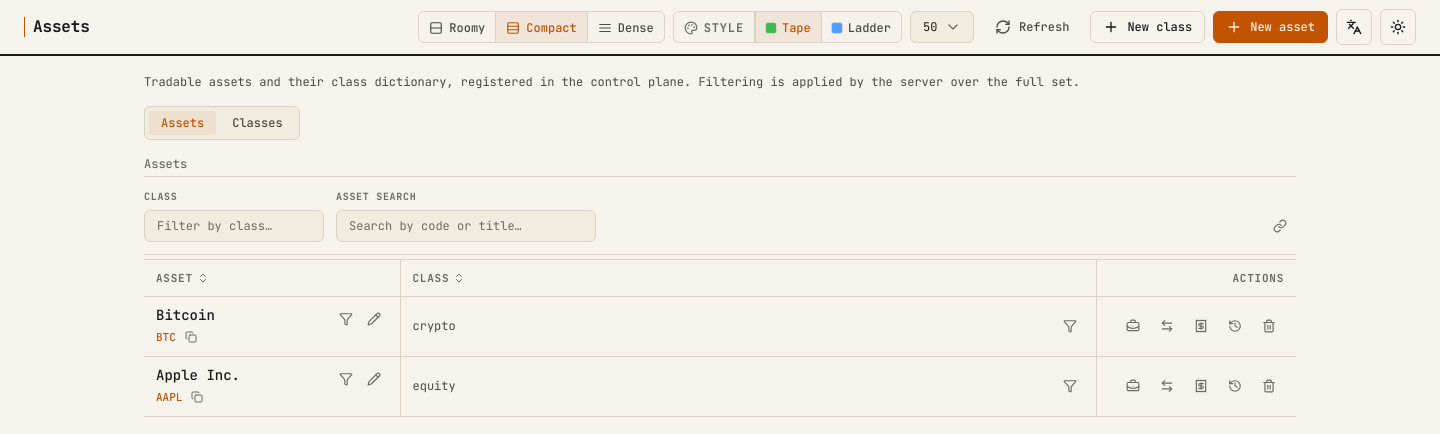
Test: Assets classes tab › switches to the Classes tab and lists asset classes
The width and height of the screenshot is (1440, 434).
Click the button "Classes" at (257, 123), box x1=220 y1=111 x2=295 y2=135
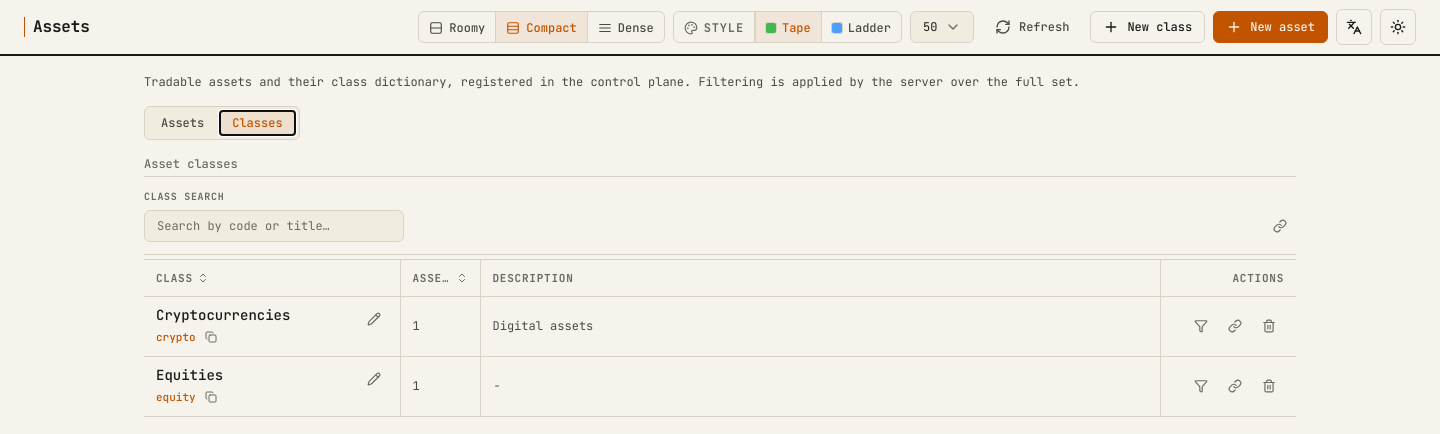
Now the text "Cryptocurrencies" is shown, box x1=156 y1=304 x2=290 y2=326
Now the text "Equities" is shown, box x1=156 y1=364 x2=223 y2=386
